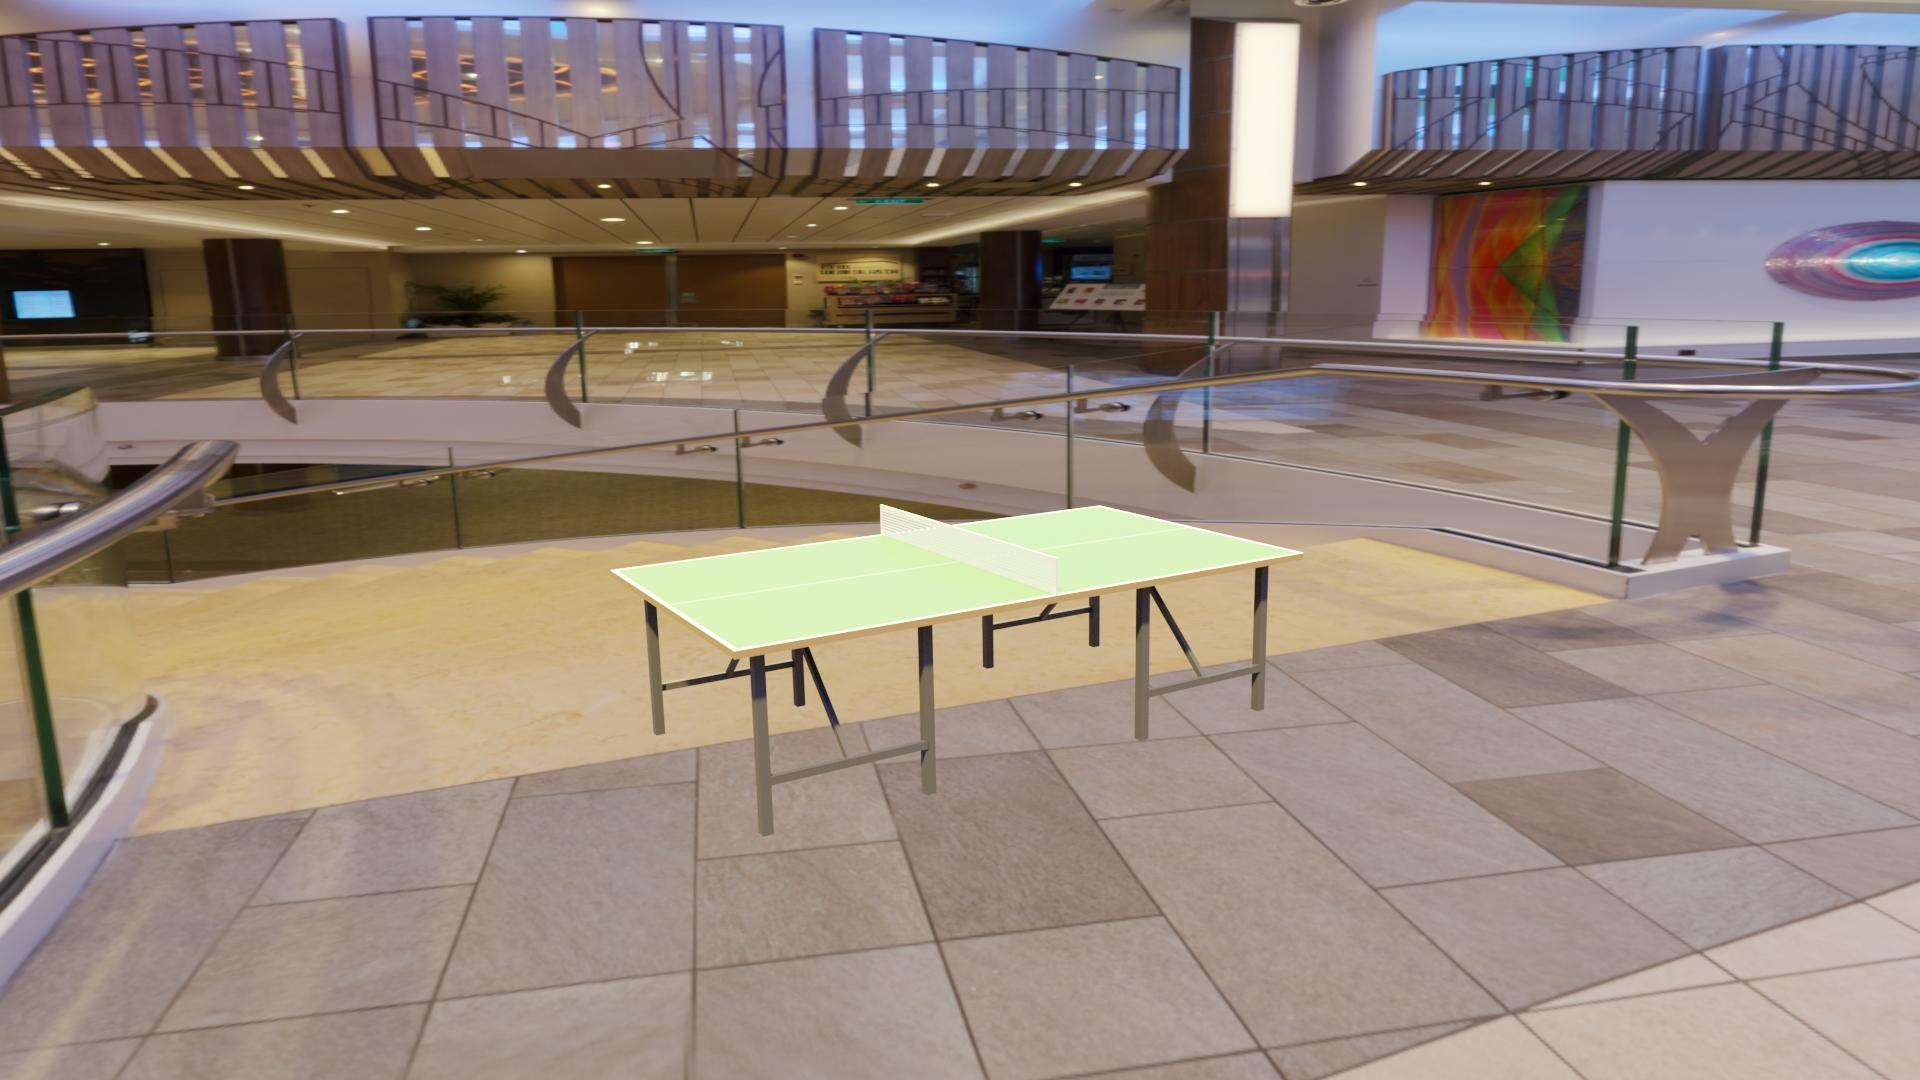table: (616, 506, 1298, 649)
